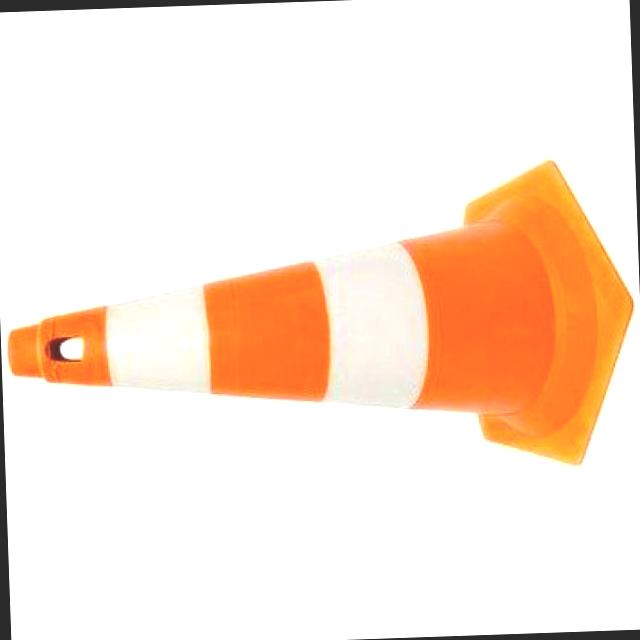cone: (8, 135, 638, 498)
